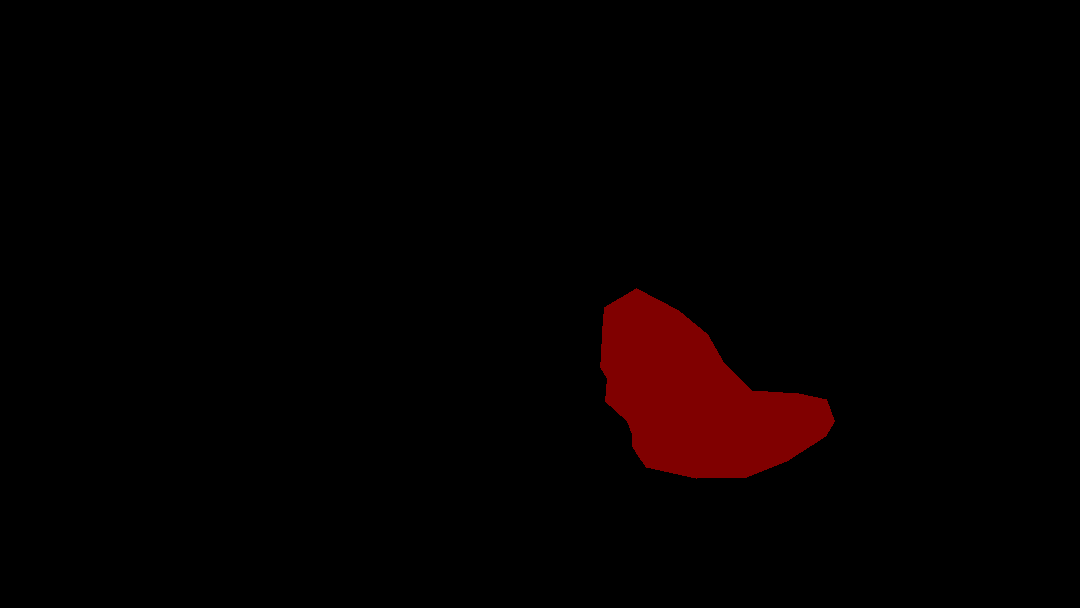fire: (600, 288, 834, 478)
